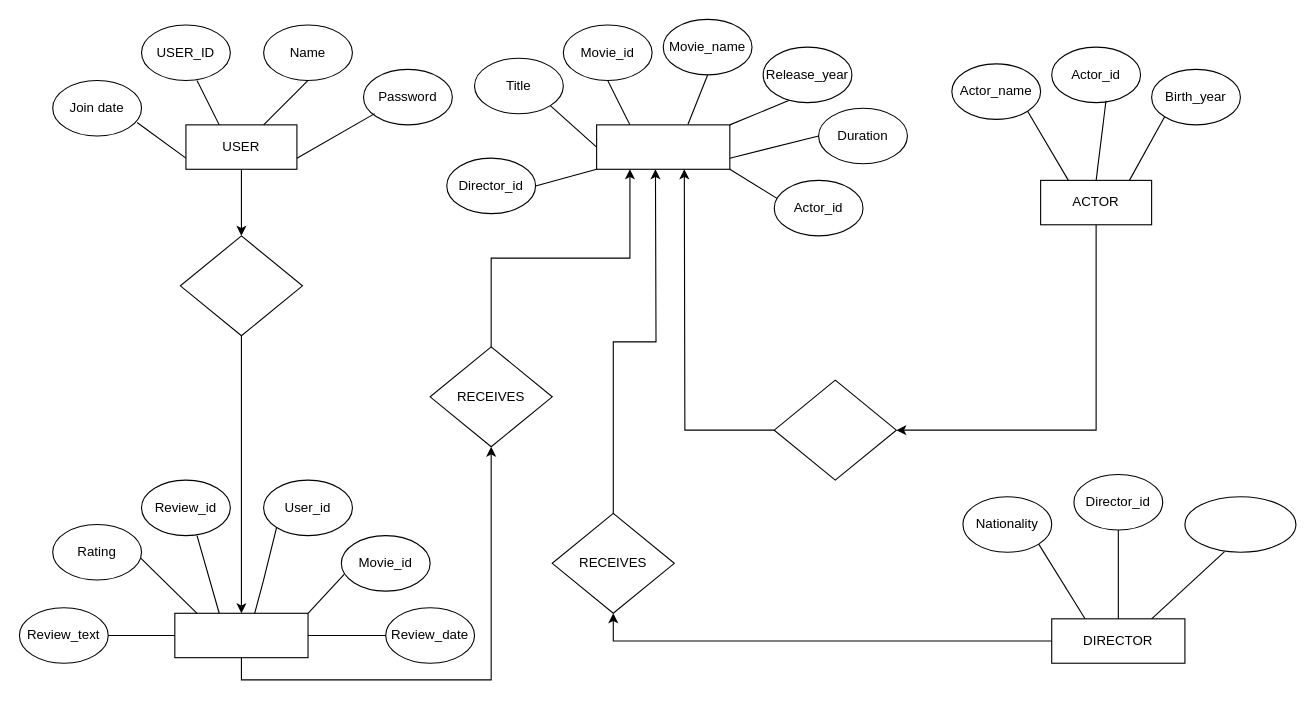
Image size: 1315x708. Some labels were removed from this diagram. The box of each missing label's shape, as (x1, y1, x2, y2) in pixels:
Director_name: (1184, 496, 1296, 552)
FEATURES: (773, 379, 896, 480)
MOVIE: (596, 124, 730, 169)
POSTS: (179, 235, 302, 336)
REVIEW: (174, 612, 308, 658)
